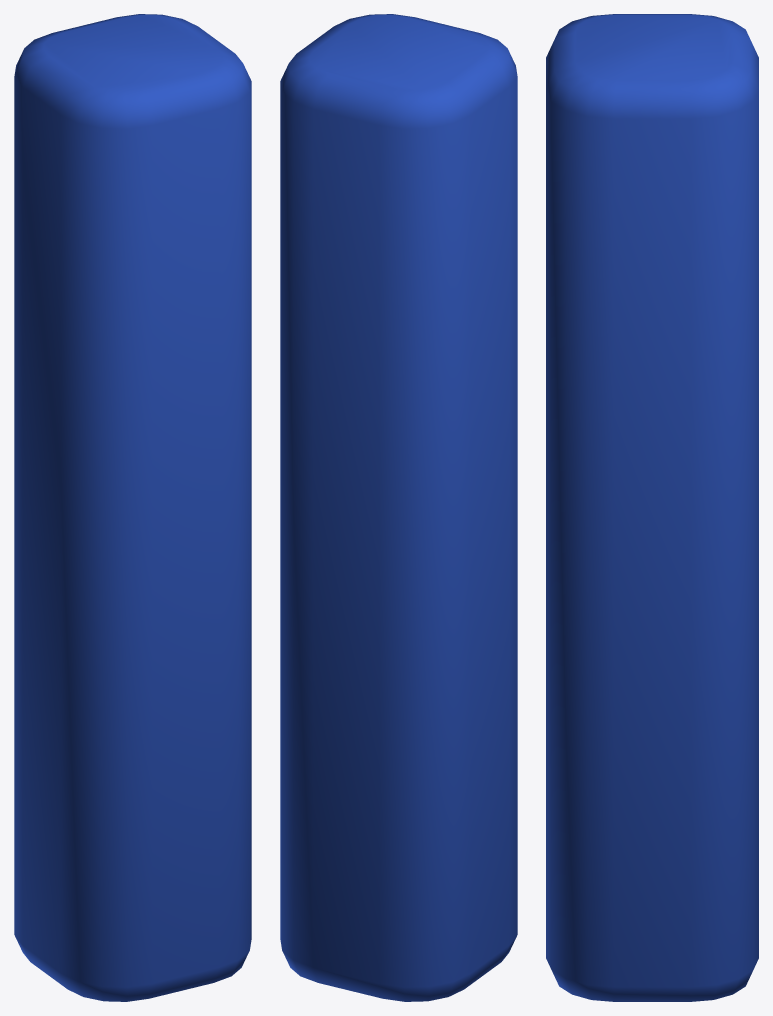
Rendered from TurnbucklePad_Blue.glb.
The picture shows the model from 3 angles, left to right: view 1: azimuth 30°, elevation 25°; view 2: azimuth 150°, elevation 25°; view 3: azimuth 270°, elevation 25°; orthographic projection.
Visible parts, largest first — view 1: TurnbucklePad_Blue; view 2: TurnbucklePad_Blue; view 3: TurnbucklePad_Blue.
Part boxes in pixels (box(x1,y1,x2,y2)): TurnbucklePad_Blue: box(14, 14, 251, 1001); TurnbucklePad_Blue: box(280, 14, 517, 1001); TurnbucklePad_Blue: box(546, 14, 758, 1001).
Size of the model in its own units: 0.22 by 1.05 by 0.22.
